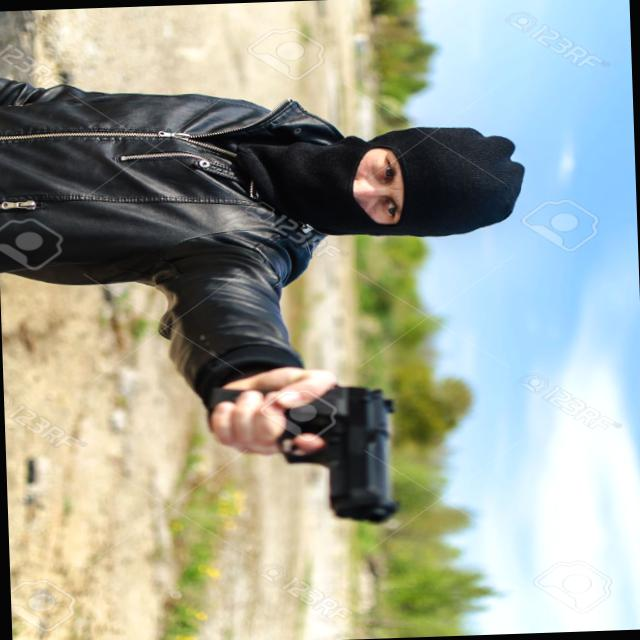handgun: (206, 368, 401, 530)
